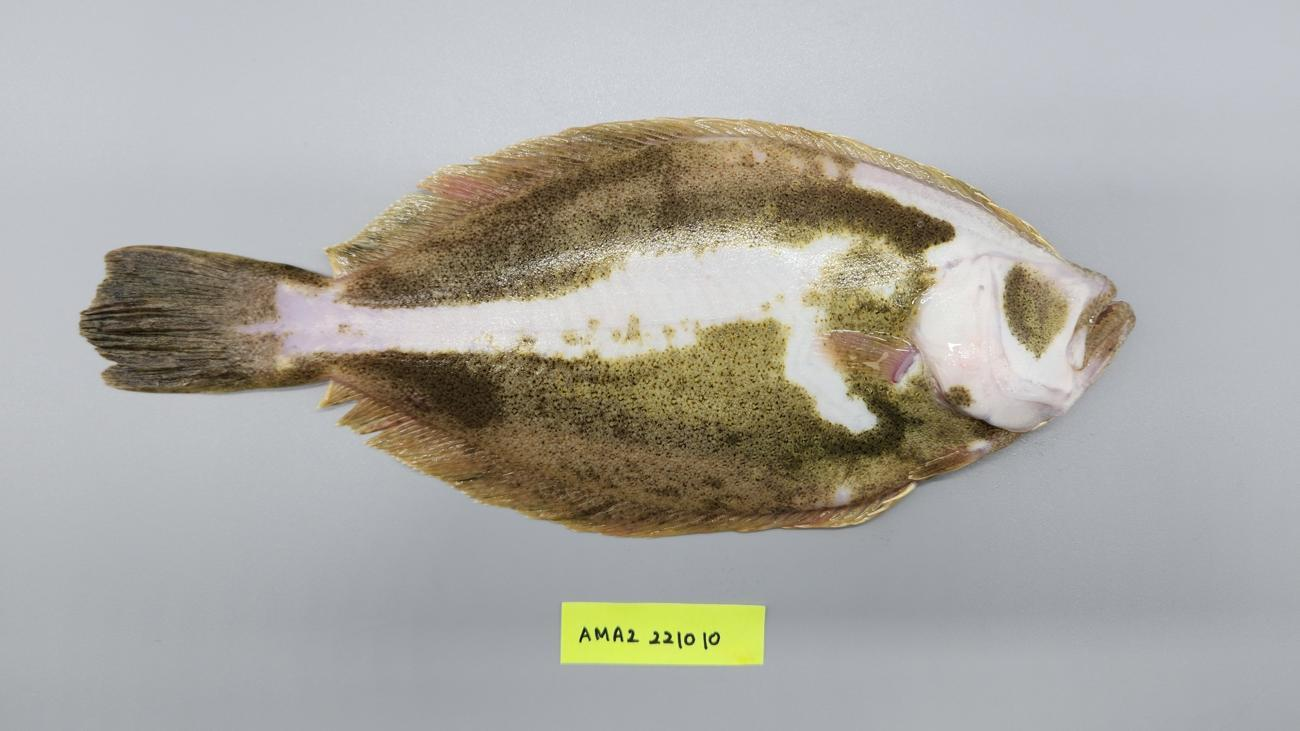MAFCH: (78, 298, 255, 389)
MAOUY: (77, 116, 1137, 530)
